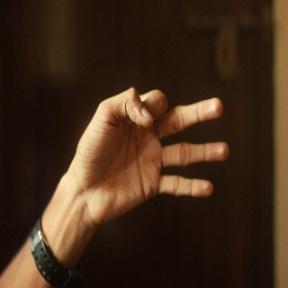K: (77, 87, 231, 217)
